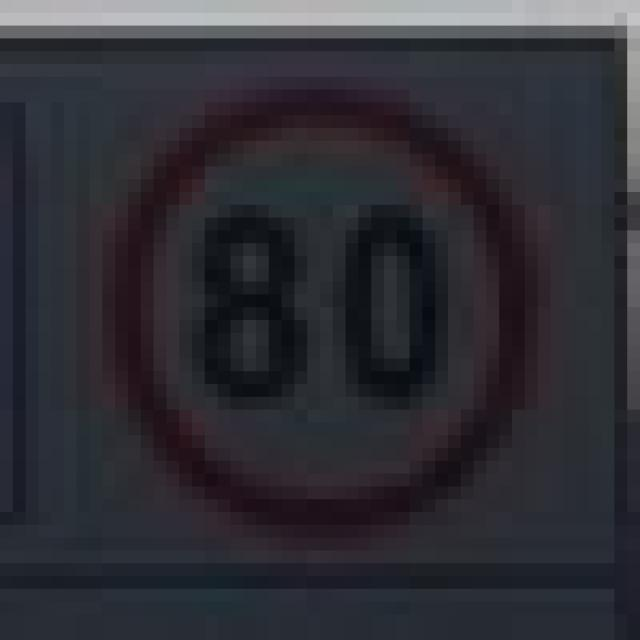SPEED_LIMIT_80: (102, 77, 525, 525)
